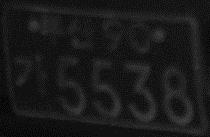0: (125, 21, 153, 55)
3: (124, 62, 158, 124)
5: (88, 57, 124, 118), (53, 54, 88, 116)
8: (160, 67, 195, 126)
9: (98, 16, 126, 56)
가: (13, 54, 50, 98)
부산_O: (38, 11, 97, 52)
